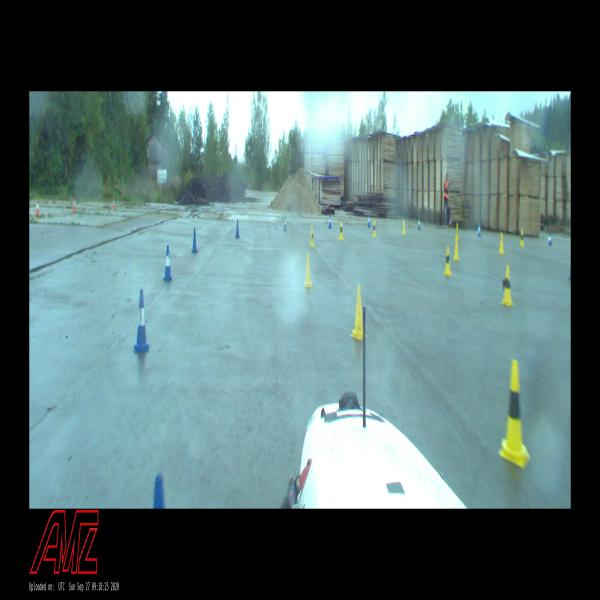blue_cone: (134, 289, 150, 351), (163, 245, 173, 281), (192, 228, 198, 252), (235, 219, 240, 238), (284, 216, 288, 231), (477, 222, 481, 237), (328, 214, 332, 228), (417, 218, 421, 229), (549, 231, 552, 245), (368, 214, 370, 227)
orange_cone: (72, 198, 76, 211), (36, 199, 39, 215), (113, 198, 115, 209)
yellow_cone: (499, 360, 531, 469), (351, 285, 367, 340), (502, 266, 514, 306), (304, 252, 312, 288), (444, 245, 452, 275), (296, 236, 303, 262), (452, 238, 460, 260), (498, 233, 504, 253), (455, 222, 460, 241), (339, 222, 344, 240), (310, 226, 314, 246), (372, 220, 376, 237), (520, 230, 524, 246), (402, 220, 406, 235)
